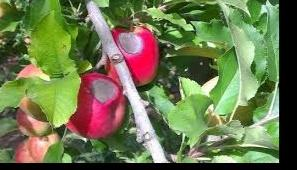rotten apple: (61, 70, 129, 138), (96, 29, 165, 86)
